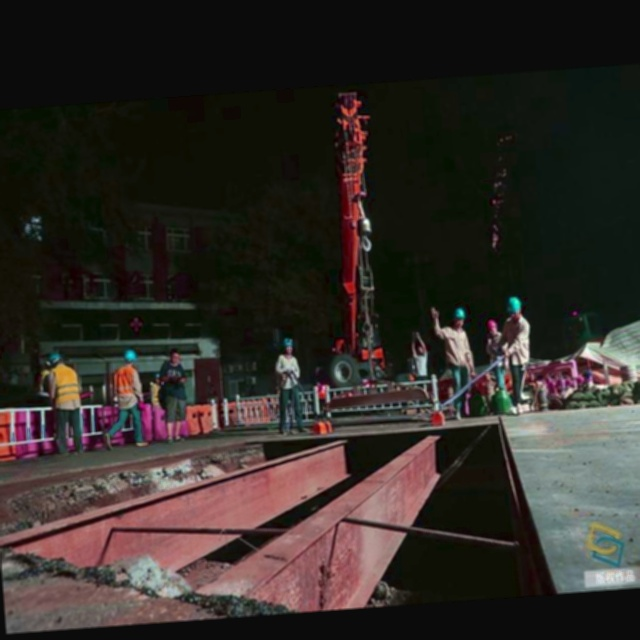Con_Casco: (508, 296, 522, 319), (454, 308, 465, 328), (125, 349, 138, 365)
Con_Chaleco: (52, 365, 83, 412), (114, 364, 139, 405)
Sin_Casco_Mascarrilla: (170, 346, 181, 362)
Sin_Chaleco: (162, 364, 186, 403), (280, 354, 298, 387)
